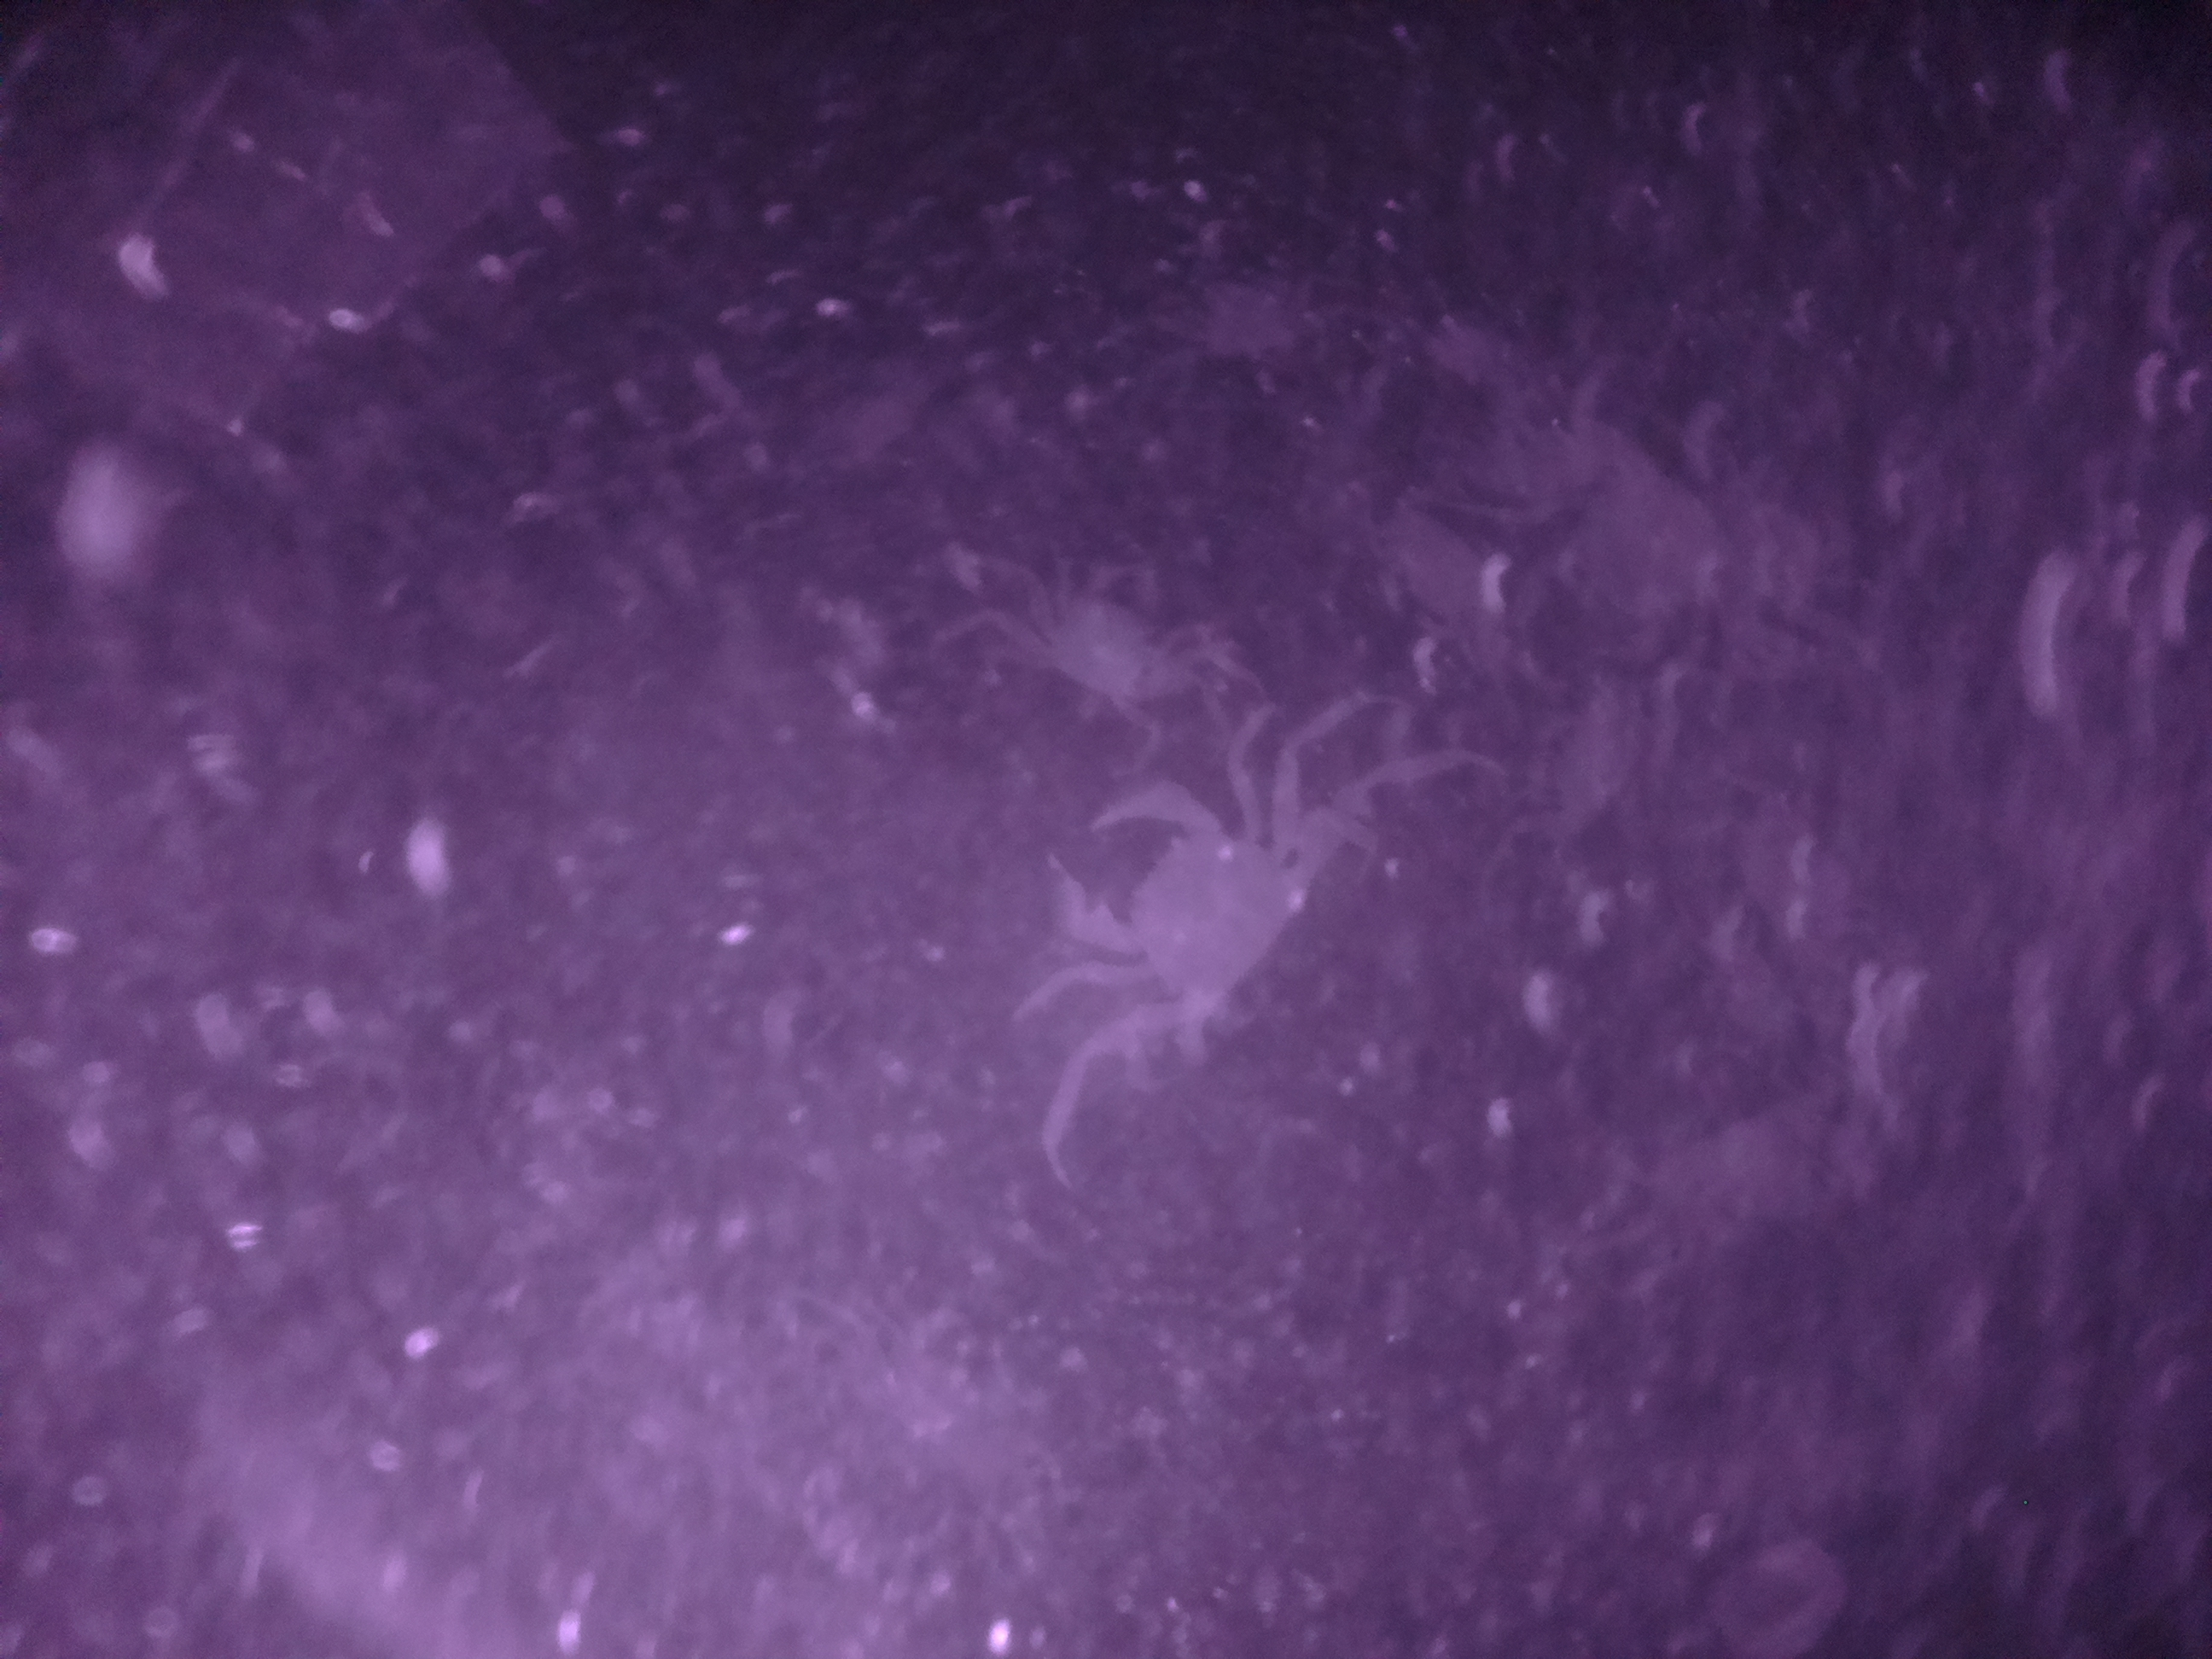Crab: (1033, 770, 1324, 1060), (1019, 538, 1198, 718)
